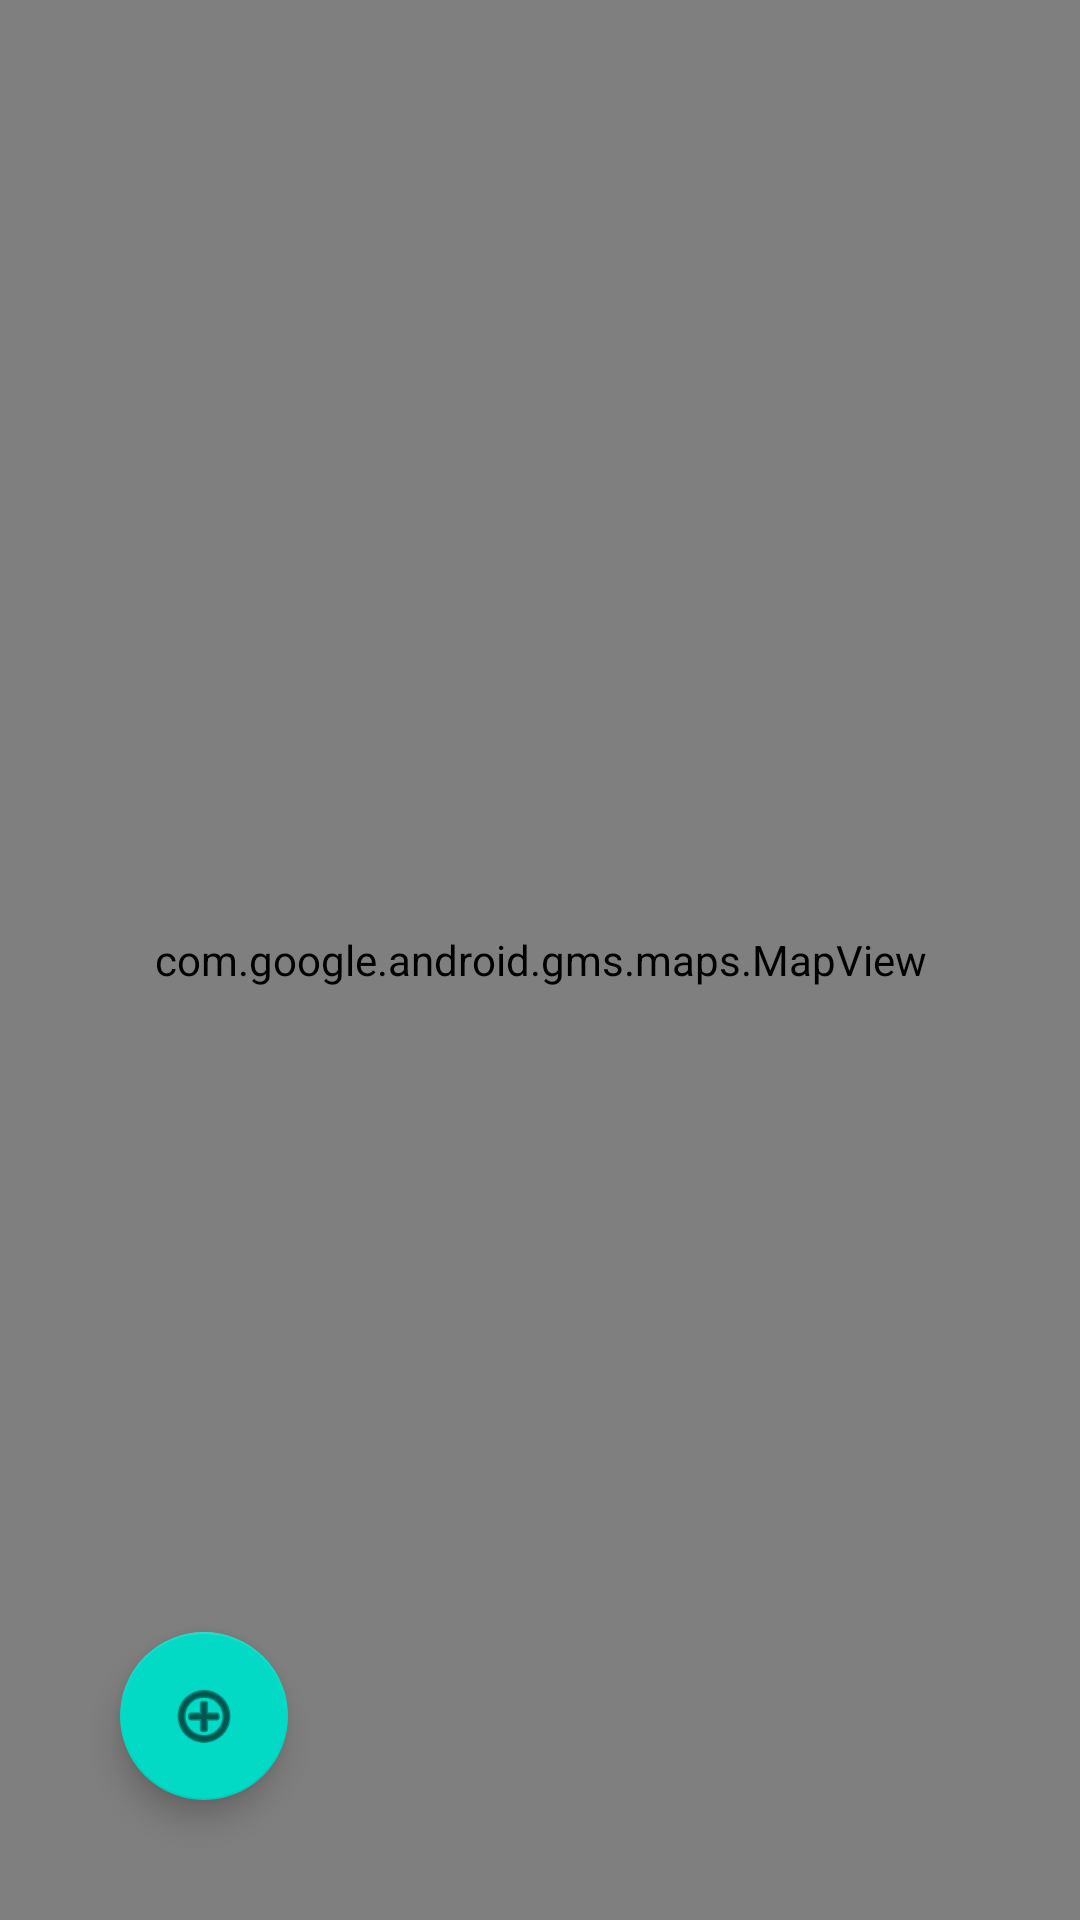

Icon click points for this 1080px x 1920px phone screenshot, format (x,y):
add: (204,1716)
